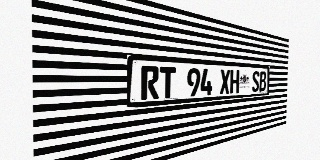4: (200, 68, 212, 96)
9: (187, 68, 200, 97)
B: (259, 71, 266, 92)
H: (230, 70, 239, 94)
R: (141, 66, 159, 100)
S: (252, 71, 259, 92)
T: (160, 66, 176, 99)
X: (220, 69, 230, 94)
